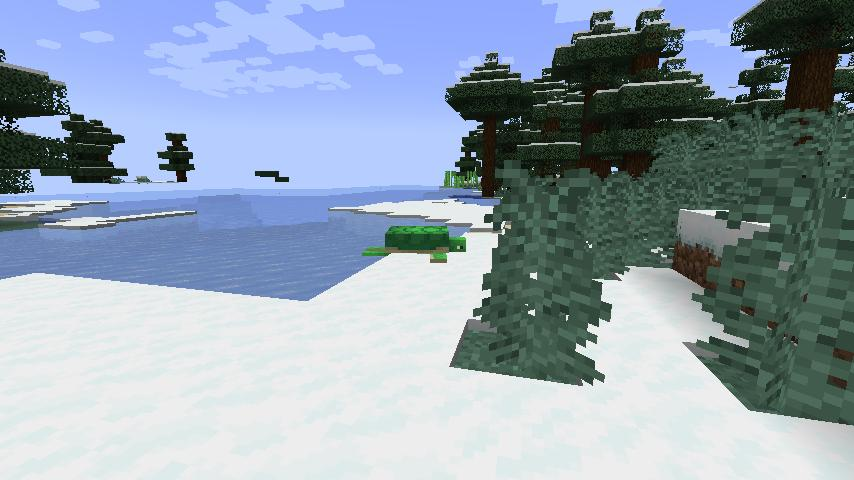turtle: (362, 218, 470, 267)
